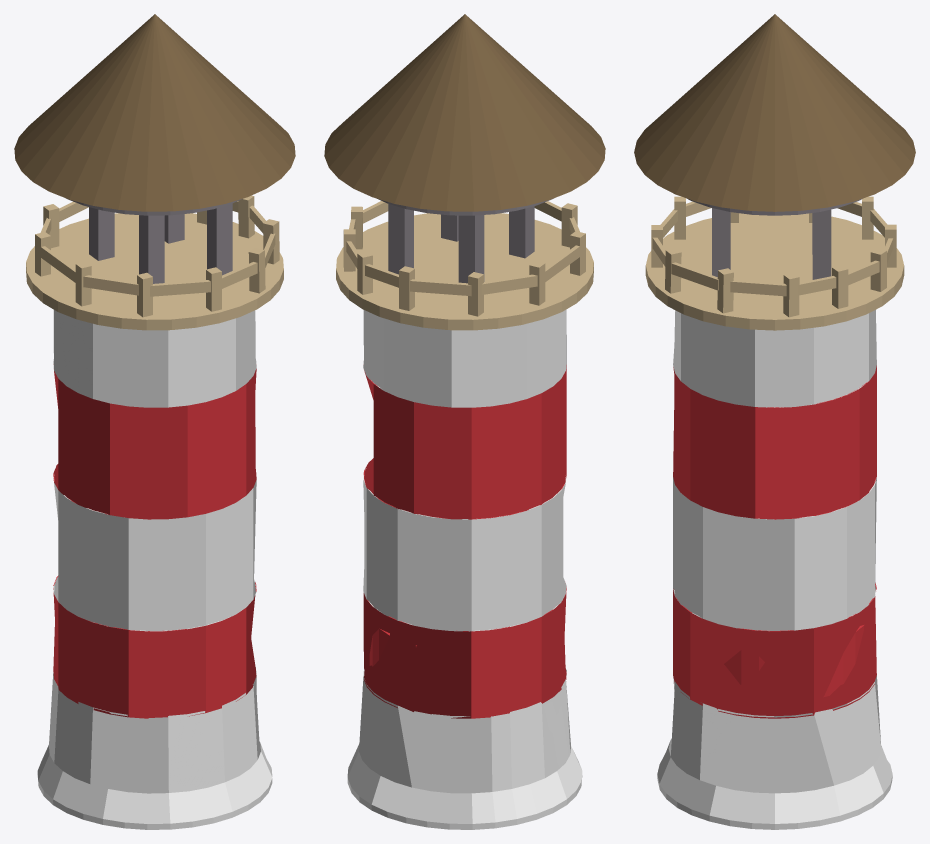
File: sealight.fbx
3 views of the same model, side by side, from view 1: azimuth 30°, elevation 25°; view 2: azimuth 150°, elevation 25°; view 3: azimuth 270°, elevation 25° (orthographic).
Parts seen in each view (by area): view 1: Cube.018; view 2: Cube.018; view 3: Cube.018.
Part boxes in pixels (box(x1,y1,x2,y2)): Cube.018: box(14, 14, 295, 829); Cube.018: box(324, 14, 605, 829); Cube.018: box(634, 14, 915, 829).
Size of the model in its own units: 240 by 720 by 240.
